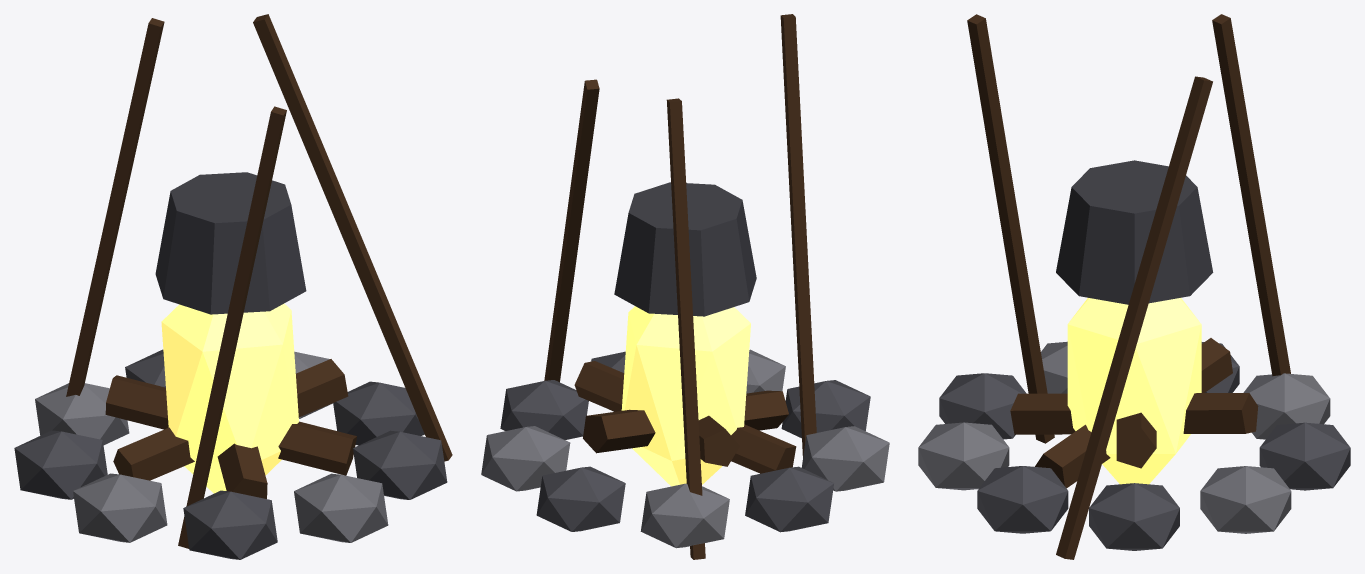
The model's file is cook_fire.glb.
The picture shows the model from 3 angles, left to right: view 1: azimuth 30°, elevation 25°; view 2: azimuth 150°, elevation 25°; view 3: azimuth 270°, elevation 25°; orthographic projection. The views are drawn at different scales.
Visible parts, largest first — view 1: cook_fire; view 2: cook_fire; view 3: cook_fire.
Part boxes in pixels (<box>): cook_fire: <box>14,14,452,559</box>; cook_fire: <box>481,14,889,559</box>; cook_fire: <box>918,14,1350,559</box>.
Size of the model in its own units: 1.37 by 1.64 by 1.37.
2 materials, 1 textured.
